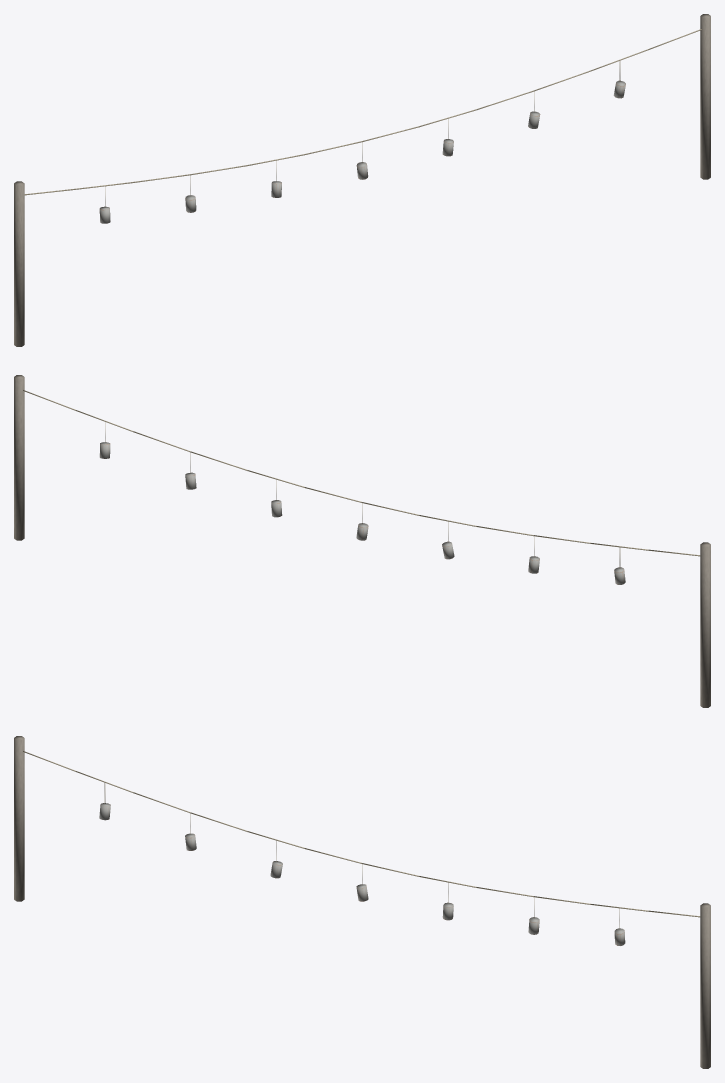
Rendered from can_line.glb.
3 views of the same model, one above another, from view 1: azimuth 30°, elevation 25°; view 2: azimuth 150°, elevation 25°; view 3: azimuth 330°, elevation 25° (orthographic).
Parts seen in each view (by area): view 1: can_line; view 2: can_line; view 3: can_line.
Part boxes in pixels (left/top/right/bottom): can_line: left=14, top=14, right=710, bottom=346; can_line: left=14, top=375, right=710, bottom=707; can_line: left=14, top=736, right=710, bottom=1068.
Size of the model in its own units: 6.07 by 1.35 by 0.0985.
1 material, 1 textured.
